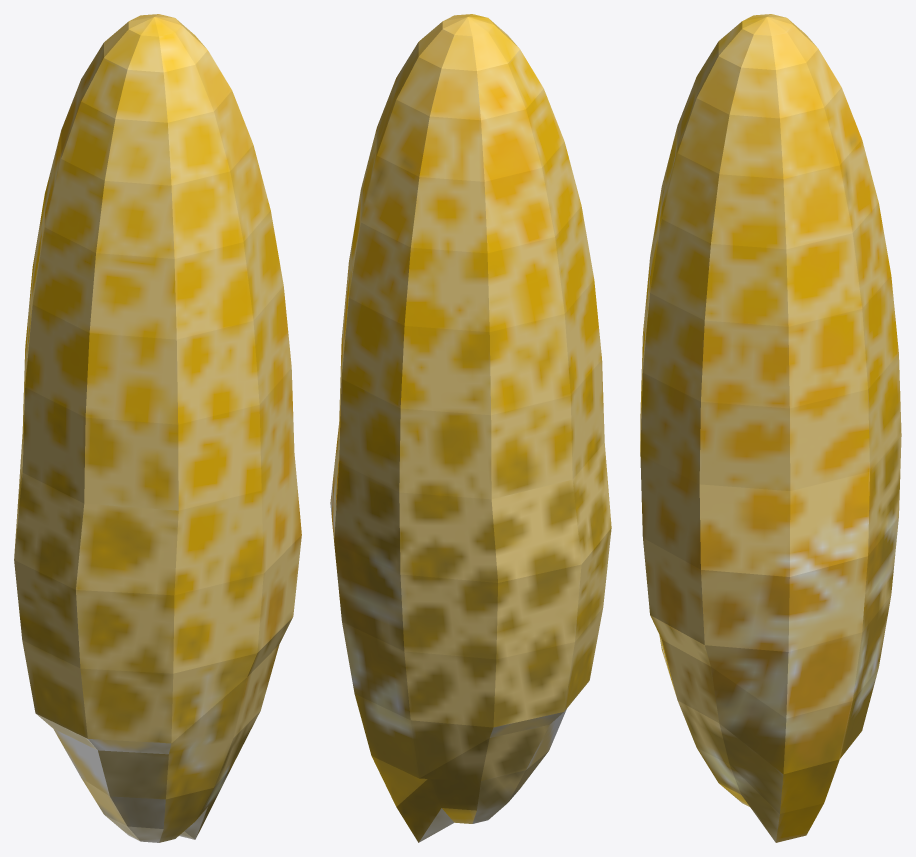
The model's file is mazorca cocina .fbx.
3 renders of one model, left to right at view 1: azimuth 30°, elevation 25°; view 2: azimuth 150°, elevation 25°; view 3: azimuth 270°, elevation 25°, orthographic. The views are drawn at different scales.
Visible parts, largest first — view 1: Sphere; view 2: Sphere; view 3: Sphere.
Boxes of the visible parts, x1,y1,x2,y2 form: Sphere: [14, 14, 301, 842]; Sphere: [330, 14, 611, 842]; Sphere: [640, 14, 901, 842].
Bounding box in the file's own units: 26.14 × 81.38 × 23.93.
Materials: 1 (1 with a texture image).
